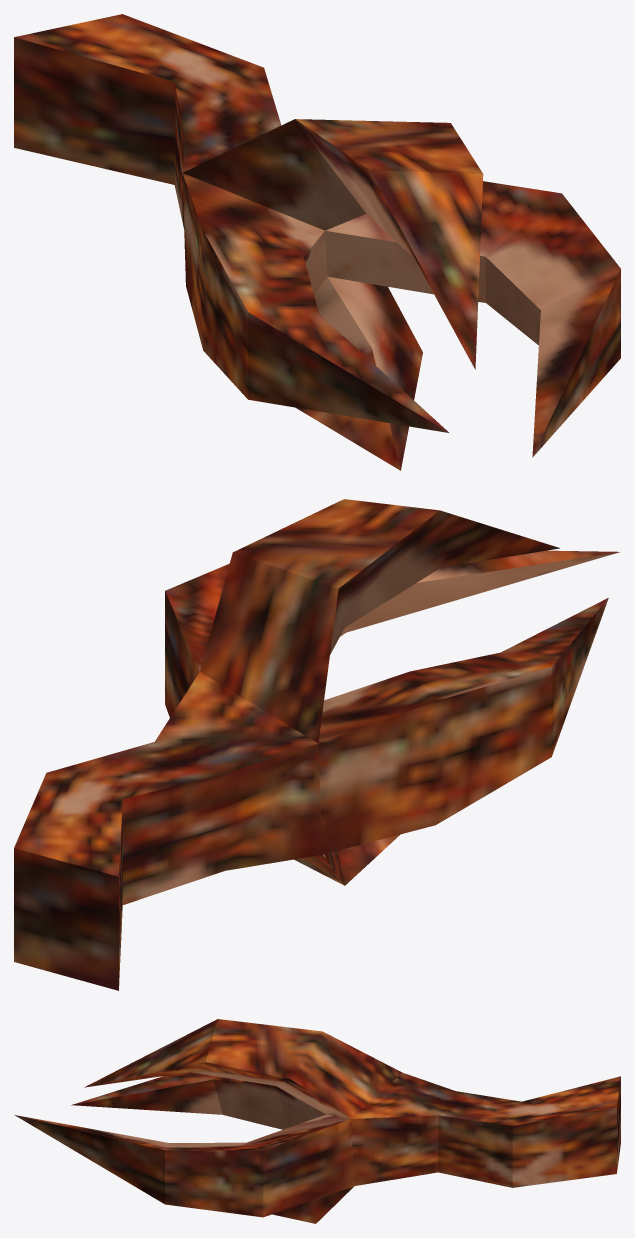
The model's file is entarm.obj.
3 views of the same model, one above another, from view 1: azimuth 30°, elevation 25°; view 2: azimuth 150°, elevation 25°; view 3: azimuth 270°, elevation 25° (orthographic). The views are drawn at different scales.
Visible parts, largest first — view 1: Base; view 2: Base; view 3: Base.
Part boxes in pixels (left/top/right/bottom): Base: left=14, top=14, right=620, bottom=470; Base: left=14, top=499, right=619, bottom=990; Base: left=14, top=1019, right=620, bottom=1223.
Bounding box in the file's own units: 0.3261 × 0.2627 × 0.8243.
